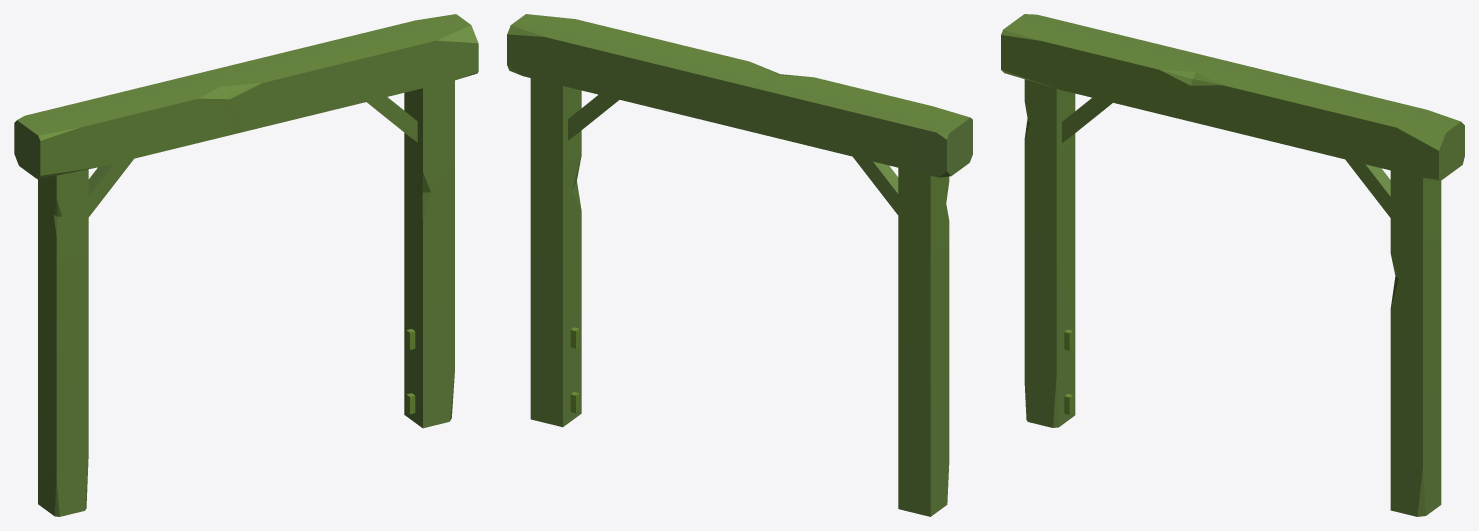
File: Arch_01.fbx
The picture shows the model from 3 angles, left to right: view 1: azimuth 30°, elevation 25°; view 2: azimuth 150°, elevation 25°; view 3: azimuth 330°, elevation 25°; orthographic projection.
Visible parts, largest first — view 1: Arch_01; view 2: Arch_01; view 3: Arch_01.
Boxes of the visible parts, left/top/right/bottom form: Arch_01: left=14, top=14, right=478, bottom=516; Arch_01: left=507, top=14, right=972, bottom=516; Arch_01: left=1001, top=14, right=1464, bottom=516.
Bounding box in the file's own units: 4.67 × 3.95 × 0.4787.
